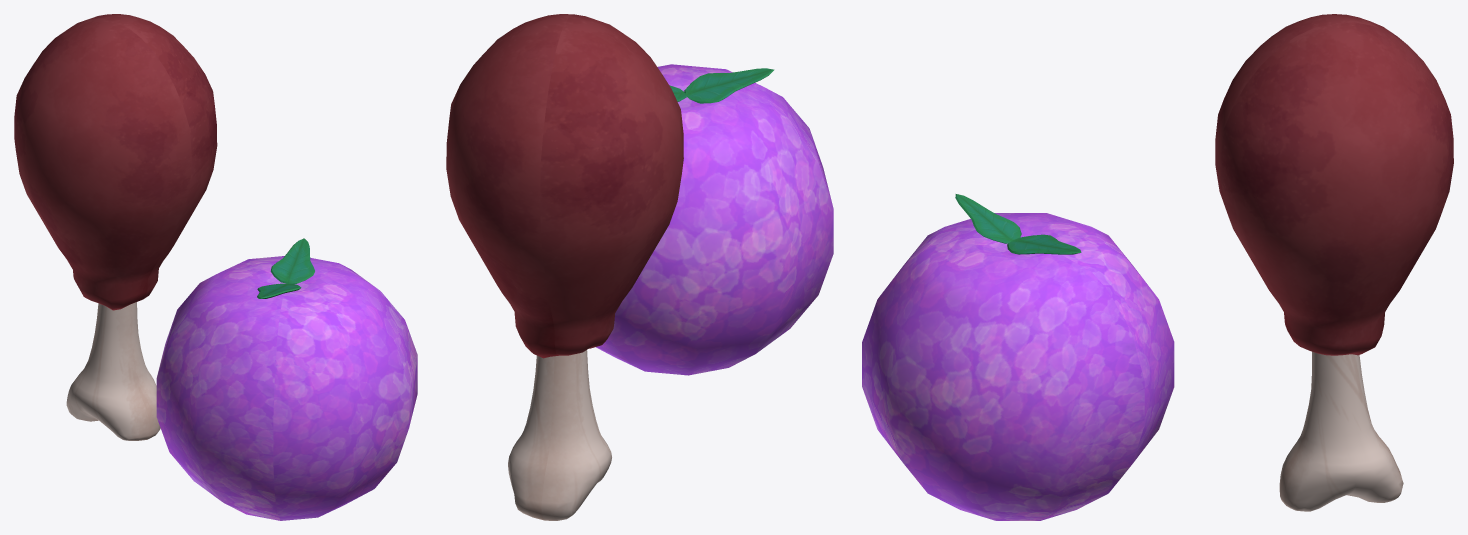
The model's file is Food.fbx.
3 renders of one model, left to right at view 1: azimuth 30°, elevation 25°; view 2: azimuth 150°, elevation 25°; view 3: azimuth 270°, elevation 25°, orthographic. The views are drawn at different scales.
Visible parts, largest first — view 1: berry, meat; view 2: meat, berry; view 3: berry, meat.
Part boxes in pixels (bbox=[...]): berry: bbox=[156, 238, 417, 520]; meat: bbox=[14, 14, 217, 440]; meat: bbox=[446, 14, 683, 520]; berry: bbox=[596, 64, 833, 375]; berry: bbox=[862, 194, 1174, 520]; meat: bbox=[1215, 14, 1453, 511].
Bounding box in the file's own units: 132 × 219 × 246.
